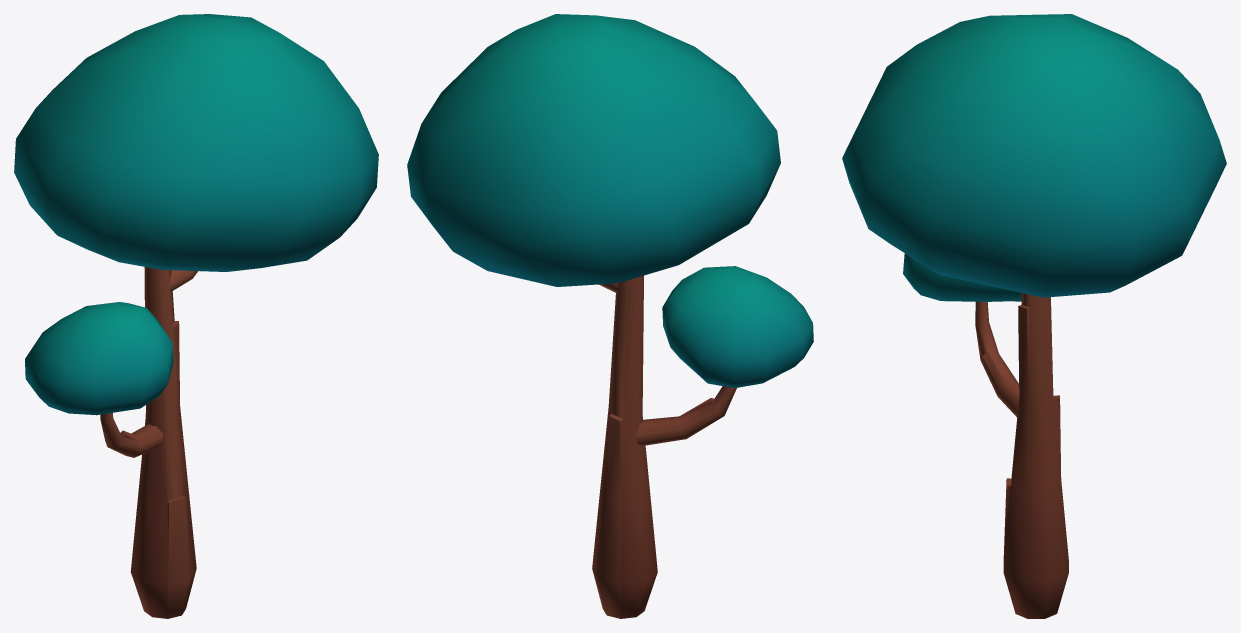
Rendered from hexoak.gltf.
3 views of the same model, side by side, from view 1: azimuth 30°, elevation 25°; view 2: azimuth 150°, elevation 25°; view 3: azimuth 270°, elevation 25° (orthographic). The views are drawn at different scales.
Visible parts, largest first — view 1: Tree_7_A_Color4; view 2: Tree_7_A_Color4; view 3: Tree_7_A_Color4.
Boxes of the visible parts, x1,y1,x2,y2 form: Tree_7_A_Color4: (14, 14, 378, 618); Tree_7_A_Color4: (407, 14, 813, 618); Tree_7_A_Color4: (842, 14, 1226, 618).
Bounding box in the file's own units: 3.14 × 5.09 × 2.89.
1 material, 1 textured.
